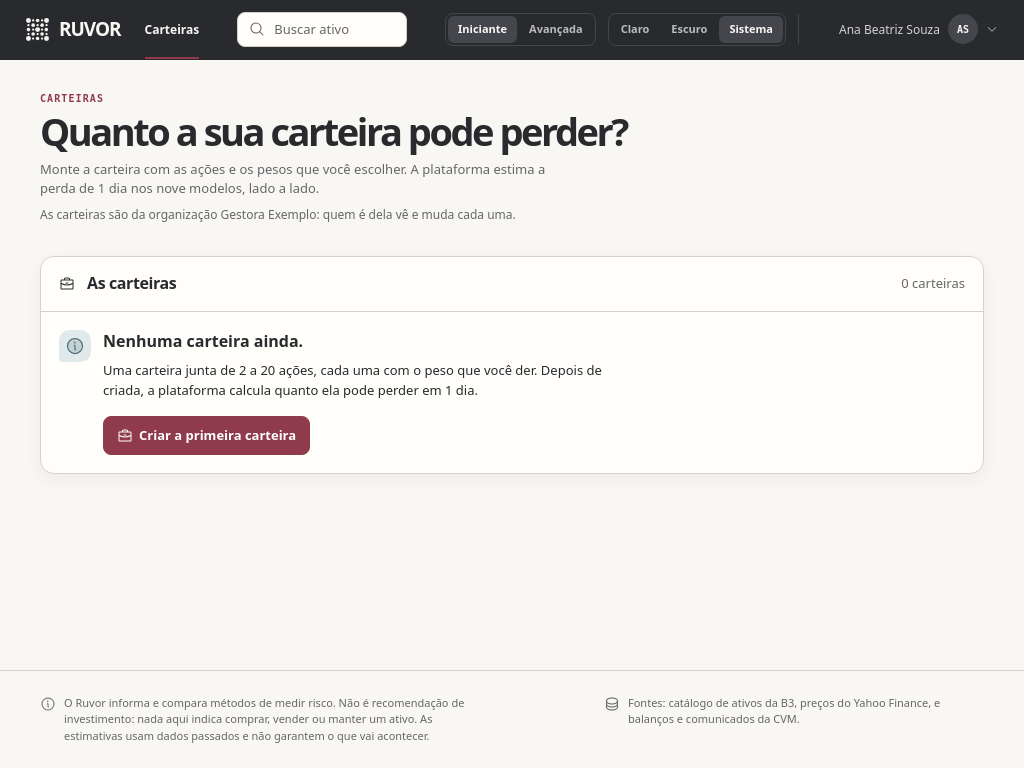
Test: V-02 — a lista › vazia: o convite a criar a primeira, que abre a criação
Expected: the text "Nenhuma carteira ainda." is shown, x1=103 y1=330 x2=303 y2=352
Expected: the button "Nova carteira" is not shown
Click the button "Criar a primeira carteira".
click(207, 436)  # box x1=103 y1=416 x2=310 y2=455
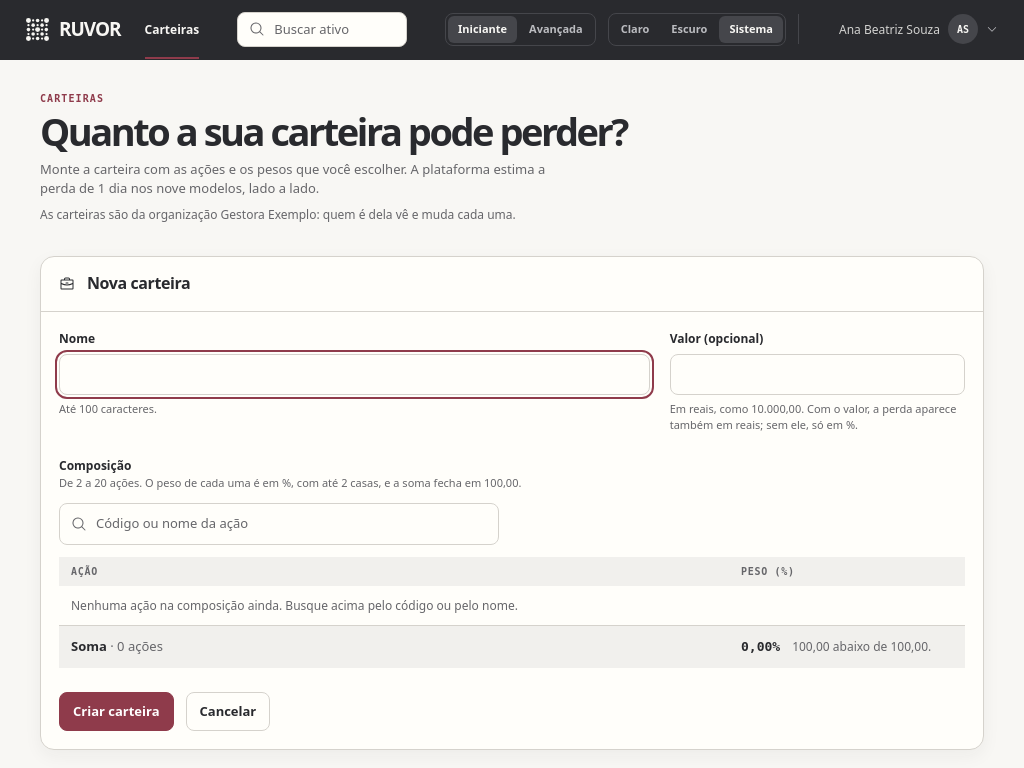
Result: the element that starts with "Nova carteira" is shown at x1=40 y1=256 x2=984 y2=750
Result: the button "Criar a primeira carteira" is gone
